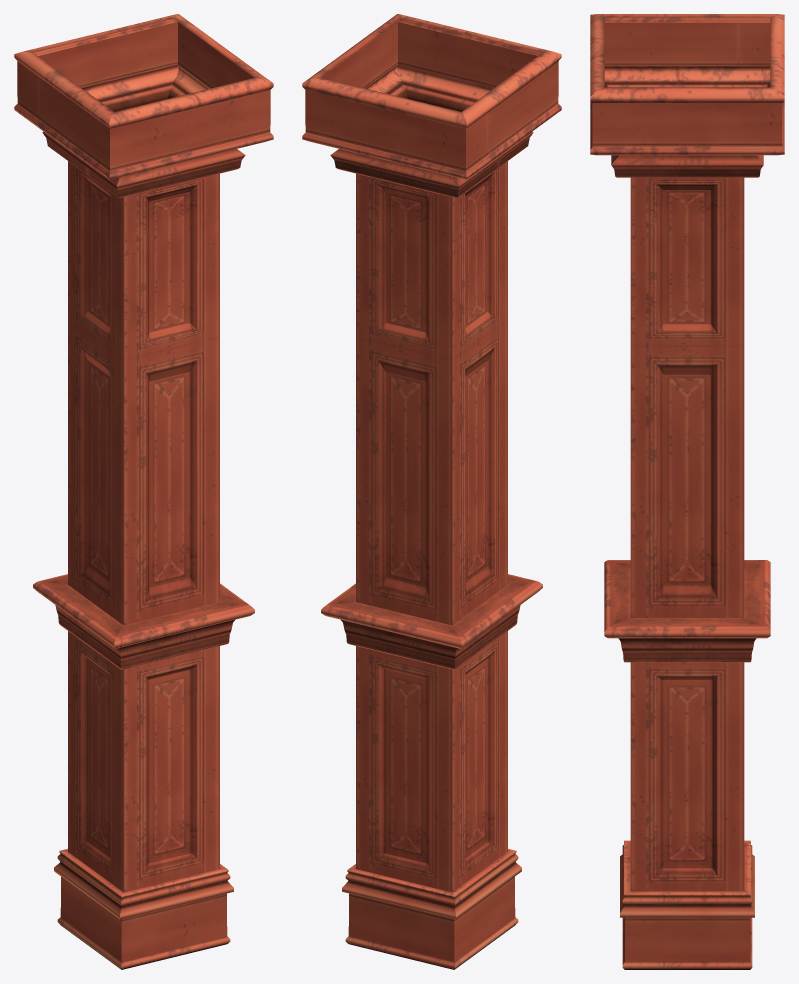
File: MSH_Column_01.FBX
3 renders of one model, left to right at view 1: azimuth 30°, elevation 25°; view 2: azimuth 150°, elevation 25°; view 3: azimuth 270°, elevation 25°, orthographic. The views are drawn at different scales.
Parts seen in each view (by area): view 1: MSH_Column_01; view 2: MSH_Column_01; view 3: MSH_Column_01.
Part boxes in pixels (x1=…): MSH_Column_01: x1=14, y1=14, x2=273, y2=969; MSH_Column_01: x1=302, y1=14, x2=561, y2=969; MSH_Column_01: x1=590, y1=14, x2=784, y2=969.
Size of what is drawn, in the model's own units: 67.27 by 67.27 by 340.
